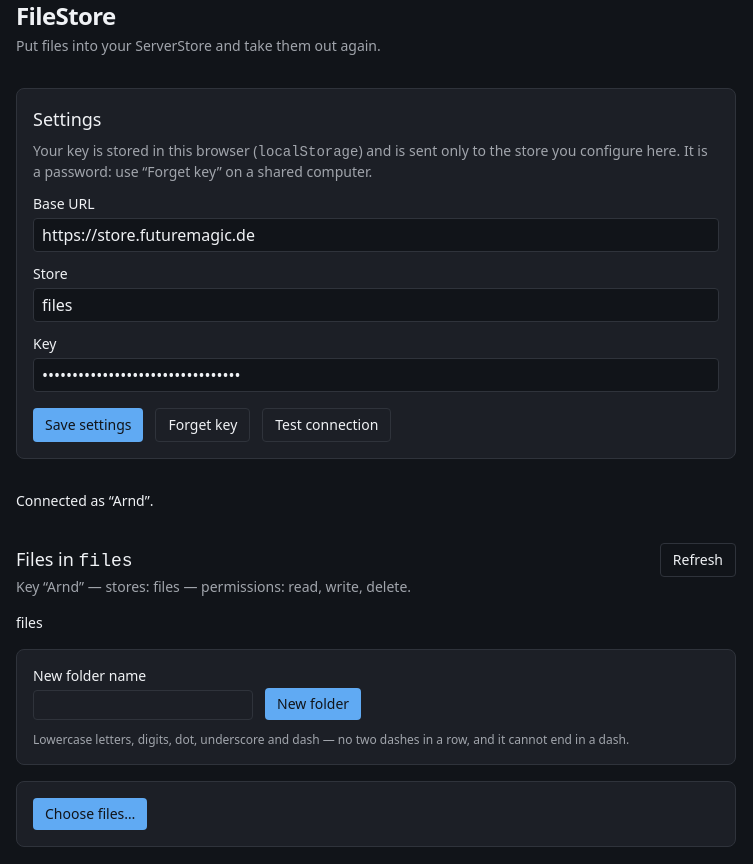
it: discarding a review is the owner changing his mind: no request, no toast
What coordinates should you click on to do the following:
click the button "Choose files…"
I would click on:
 (90, 814)
Its box is [33,798,147,830].
(page scrolled)
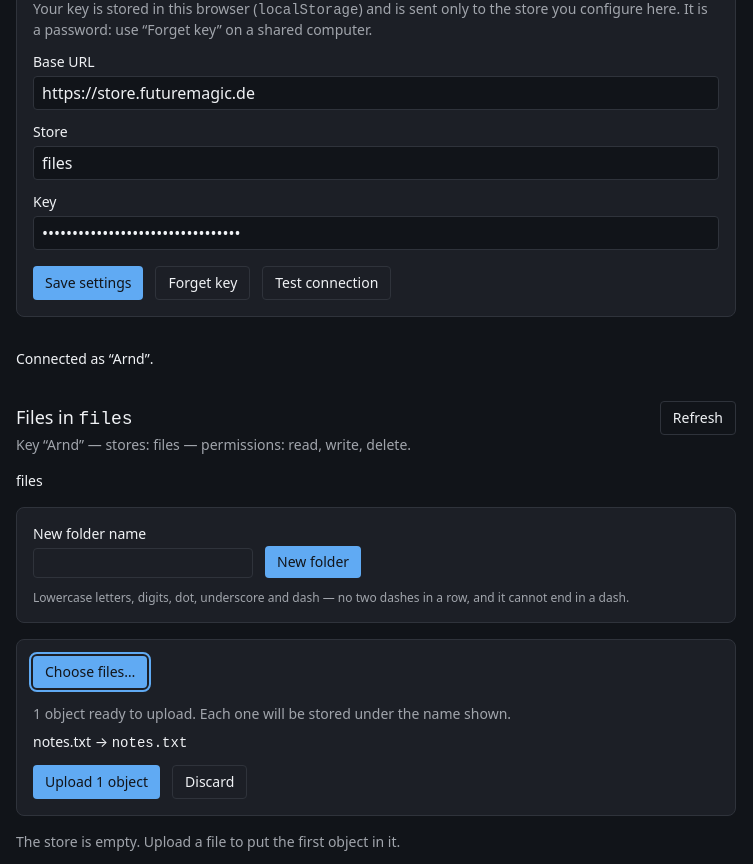
What coordinates should you click on to do the following:
click the button "Discard"
I would click on:
 (210, 782)
Its box is [172,765,247,799].
(page scrolled)
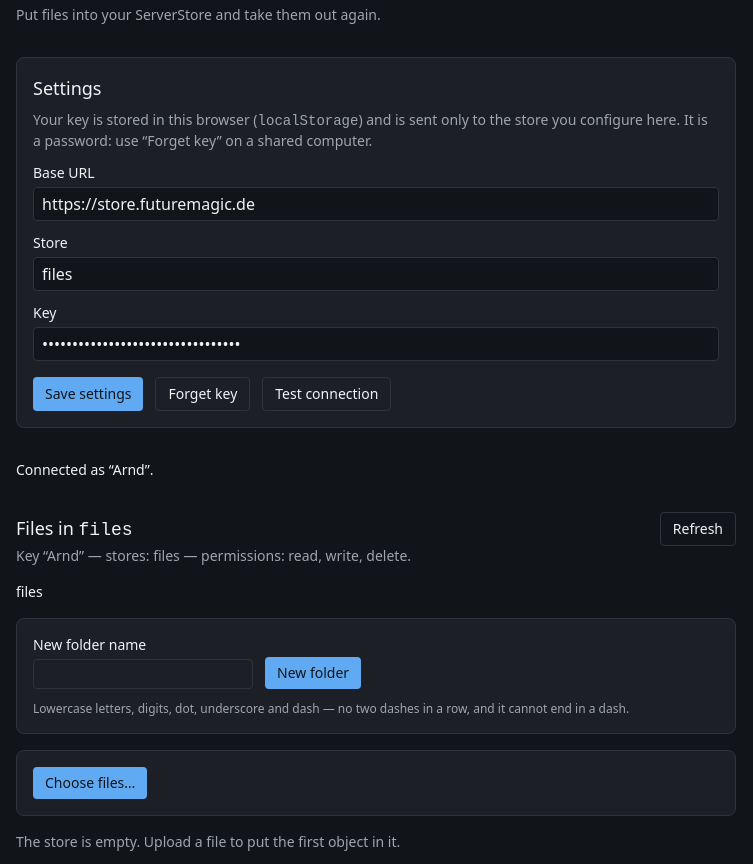
Result: the text "notes.txt" is not shown
